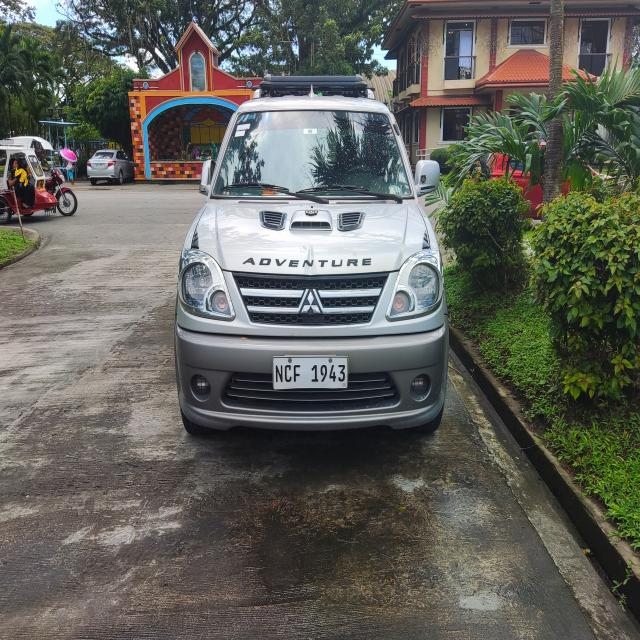plate: (272, 356, 349, 390)
